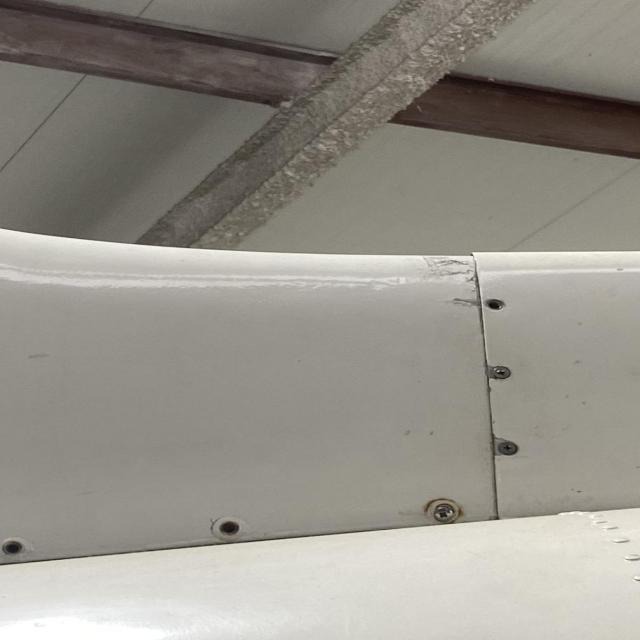Missing-head: (213, 520, 242, 540), (0, 539, 24, 558), (484, 298, 505, 311)
Paint-off: (424, 256, 481, 308)
